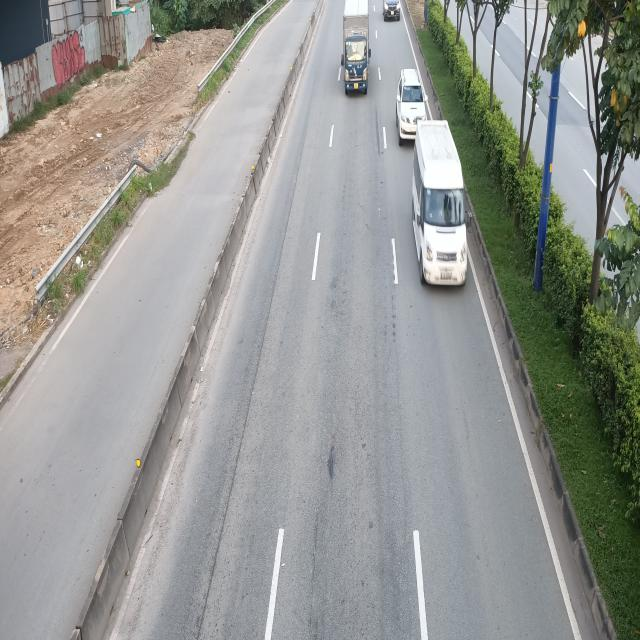car: (398, 70, 429, 146)
truck: (342, 0, 371, 94)
van: (411, 123, 471, 291)
